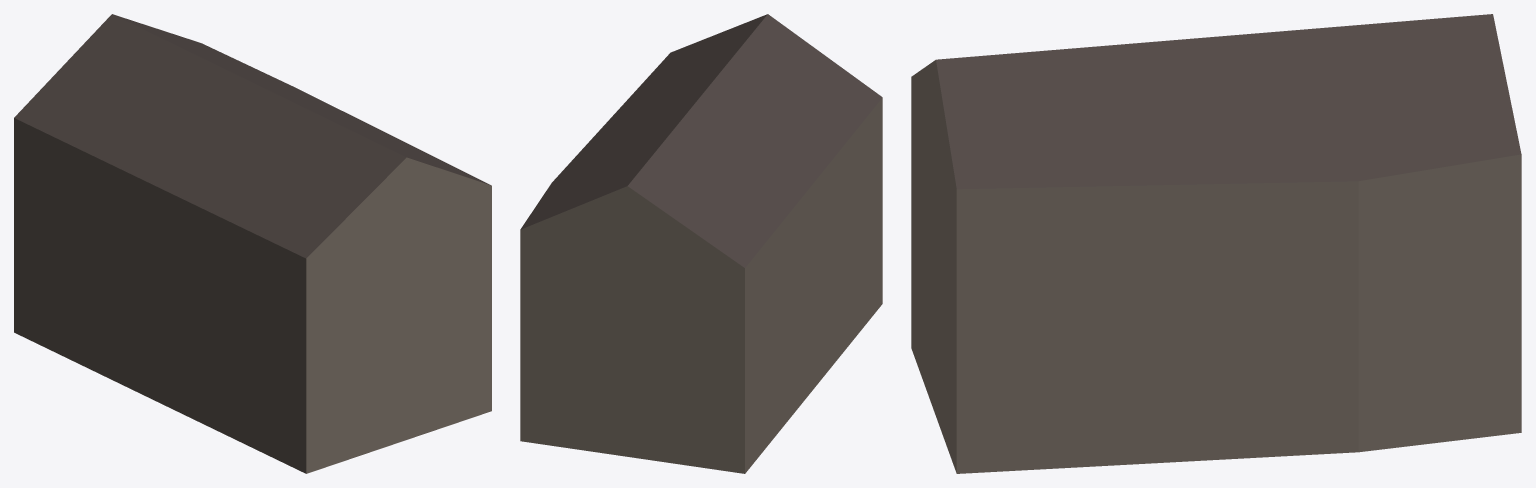
The picture shows the model from 3 angles, left to right: view 1: azimuth 30°, elevation 25°; view 2: azimuth 150°, elevation 25°; view 3: azimuth 270°, elevation 25°; orthographic projection. The views are drawn at different scales.
Visible parts, largest first — view 1: HP-w1197839034; view 2: HP-w1197839034; view 3: HP-w1197839034.
Part boxes in pixels (box(x1,y1,x2,y2)): HP-w1197839034: box(14, 14, 491, 473); HP-w1197839034: box(520, 14, 882, 473); HP-w1197839034: box(911, 14, 1521, 473).
Bounding box in the file's own units: 8.13 × 7.9 × 12.24.
